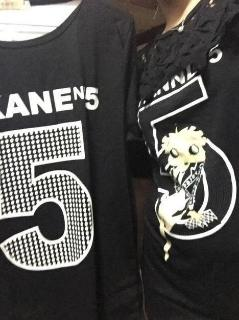short sleeve dress: (132, 0, 239, 319)
short sleeve top: (0, 0, 144, 319)
